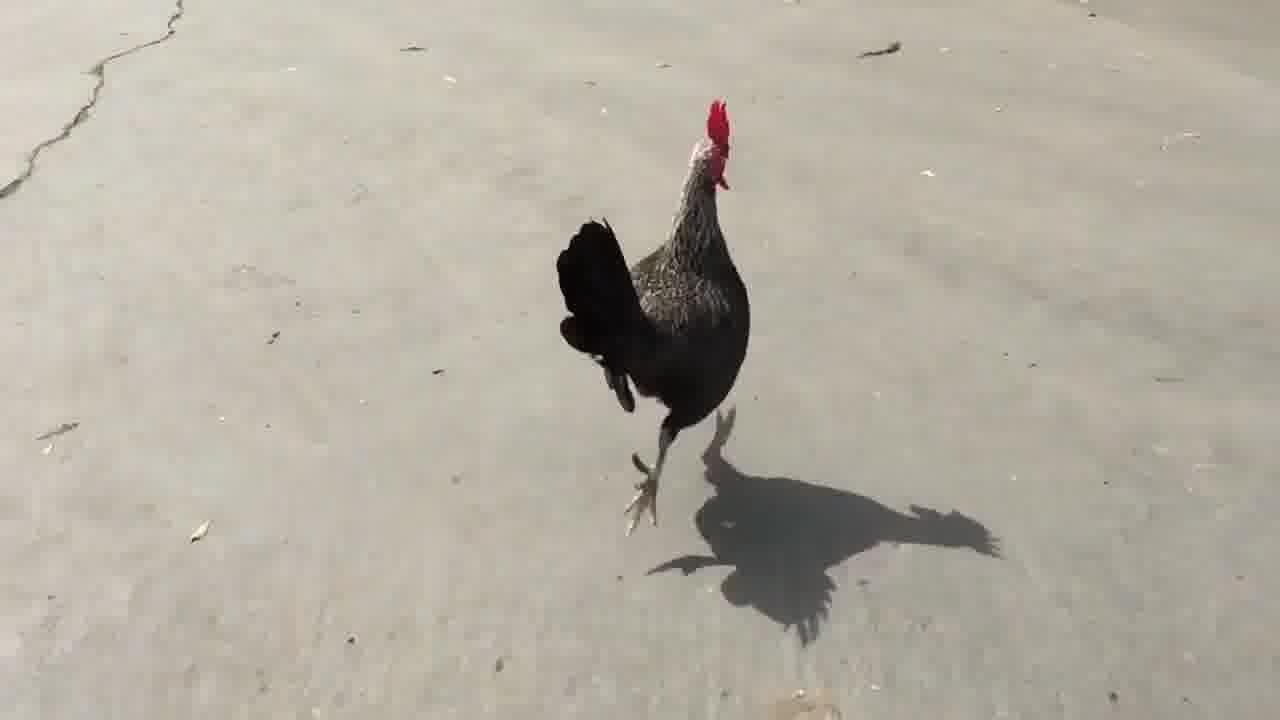Normal: (538, 94, 762, 524)
